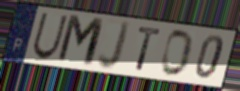0: (192, 34, 224, 81)
J: (96, 19, 133, 72)
M: (54, 13, 107, 70)
O: (159, 28, 195, 79)
T: (134, 25, 163, 73)
U: (30, 11, 69, 62)
